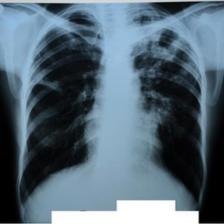tuberculosis: (17, 4, 207, 202)
